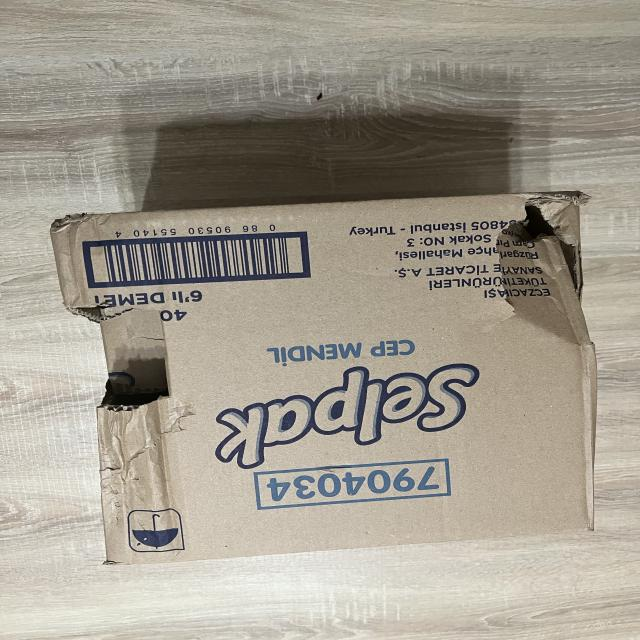damaged: (51, 187, 602, 568), (64, 281, 183, 495), (482, 182, 606, 362), (46, 210, 92, 236)
